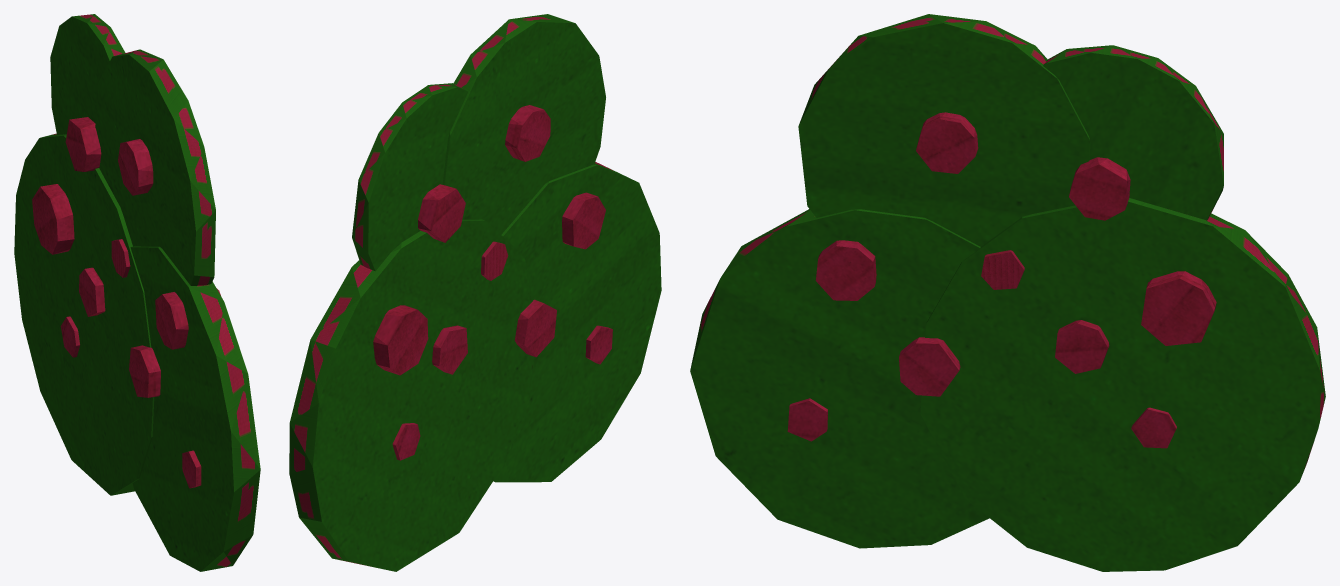
The model's file is kust1_new.fbx.
3 views of the same model, side by side, from view 1: azimuth 30°, elevation 25°; view 2: azimuth 150°, elevation 25°; view 3: azimuth 270°, elevation 25° (orthographic). The views are drawn at different scales.
Visible parts, largest first — view 1: kust.007; view 2: kust.007; view 3: kust.007.
Part boxes in pixels (<box>): kust.007: <box>14,14,260,571</box>; kust.007: <box>289,14,661,571</box>; kust.007: <box>690,14,1325,571</box>.
Size of the model in its own units: 1055 by 5120 by 5538.
2 materials, 2 textured.
